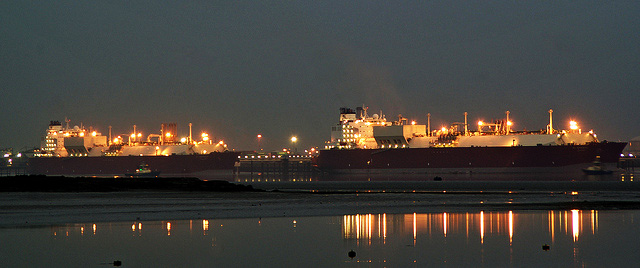LNG_ship: (310, 105, 623, 173), (25, 113, 246, 177)
tug_boat: (121, 155, 160, 176)
